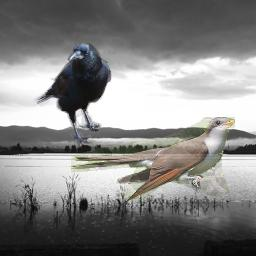Crow: (30, 38, 112, 149)
Cuckoo: (71, 117, 235, 201)
